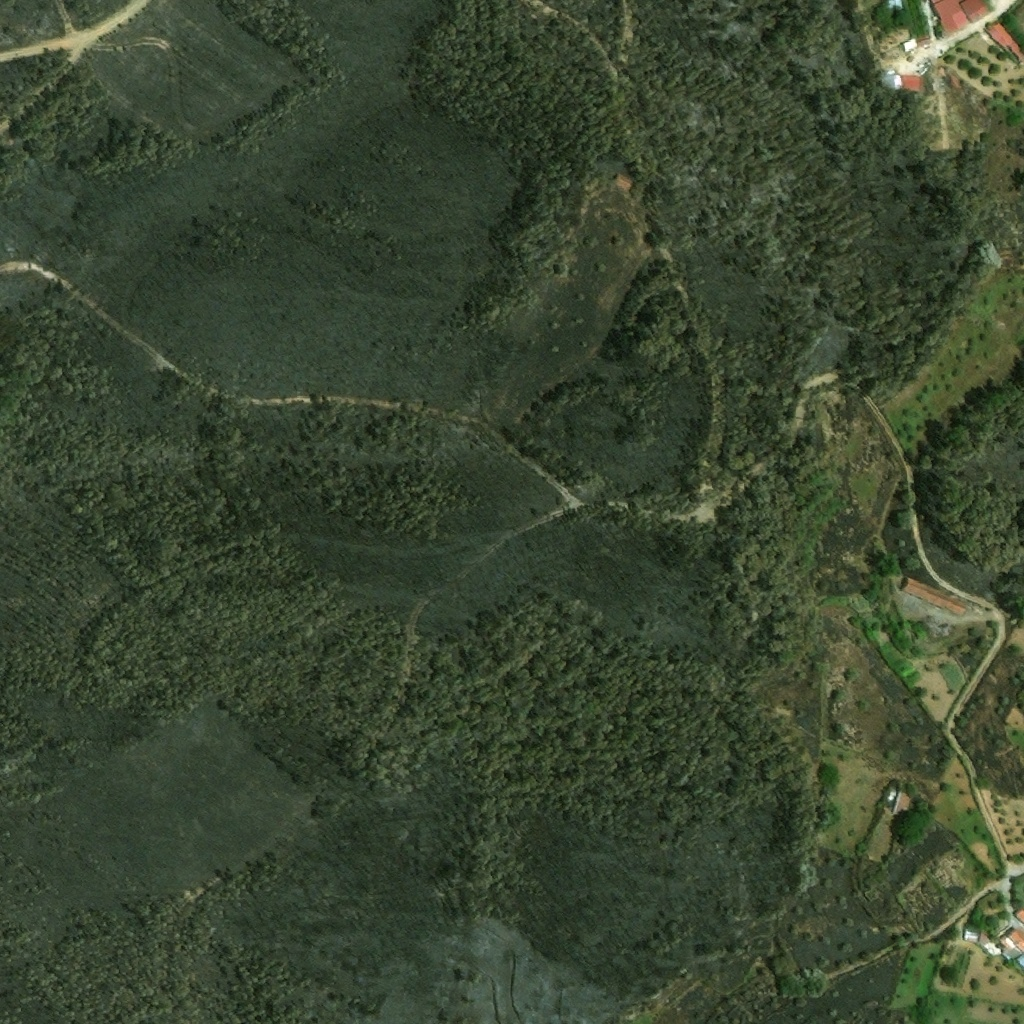0 no-damage: (901, 577, 967, 615), (931, 0, 990, 34), (987, 21, 1023, 67), (882, 74, 920, 92), (997, 928, 1023, 954), (892, 790, 910, 816), (979, 932, 990, 946)
4 un-classified: (884, 0, 903, 11), (1013, 907, 1023, 927), (1015, 954, 1023, 968)
